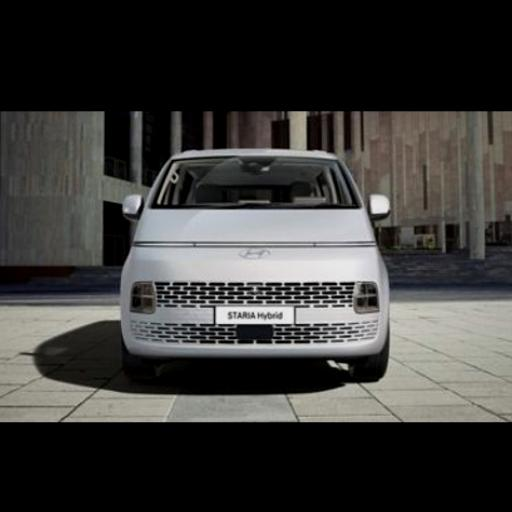van: (121, 149, 388, 380)
